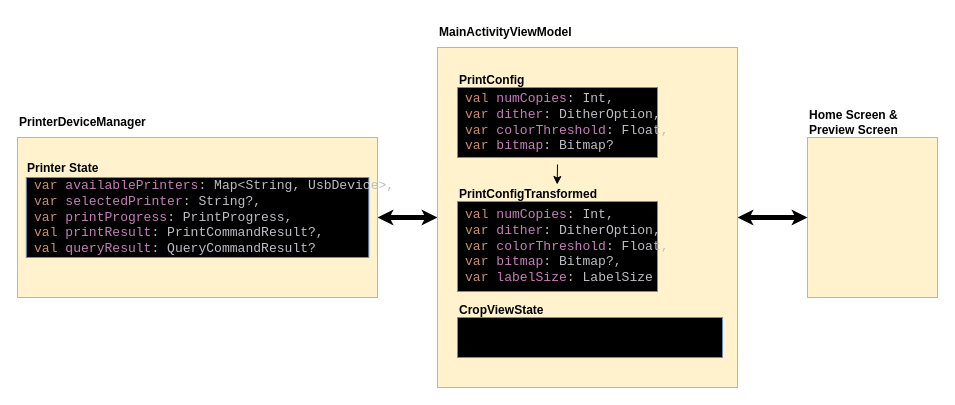
This 955x405 diagram has some shape labels left out. The shapes that lost their labels are listed below. From the top down, each one's centre as x and y in pixels, then its label:
At point 872,217: "Composables".
At point 589,337: "var uri : Uri? = null , var uriLoaded : Boolean = false".
